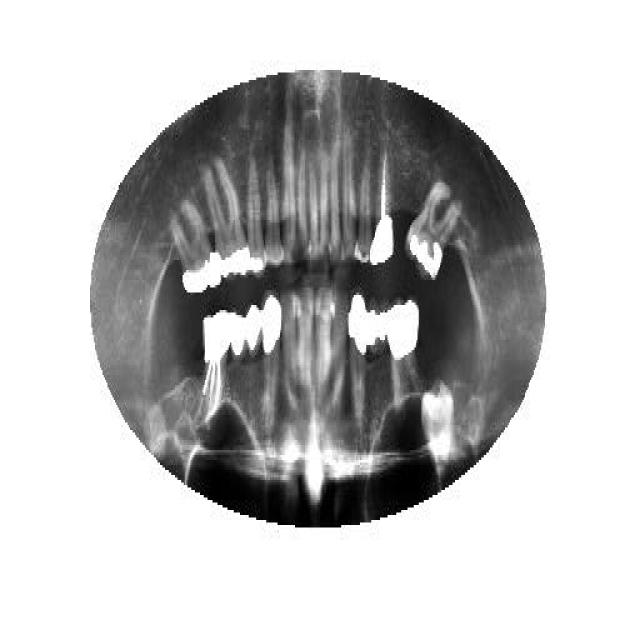Fillings: (405, 175, 460, 285), (206, 162, 249, 280), (171, 203, 221, 295), (388, 300, 422, 418), (348, 292, 370, 432), (264, 295, 282, 443), (246, 158, 266, 278), (246, 303, 262, 365), (232, 307, 246, 375), (368, 302, 378, 378), (378, 300, 388, 365)
Implant: (196, 310, 232, 428), (370, 150, 394, 270)
